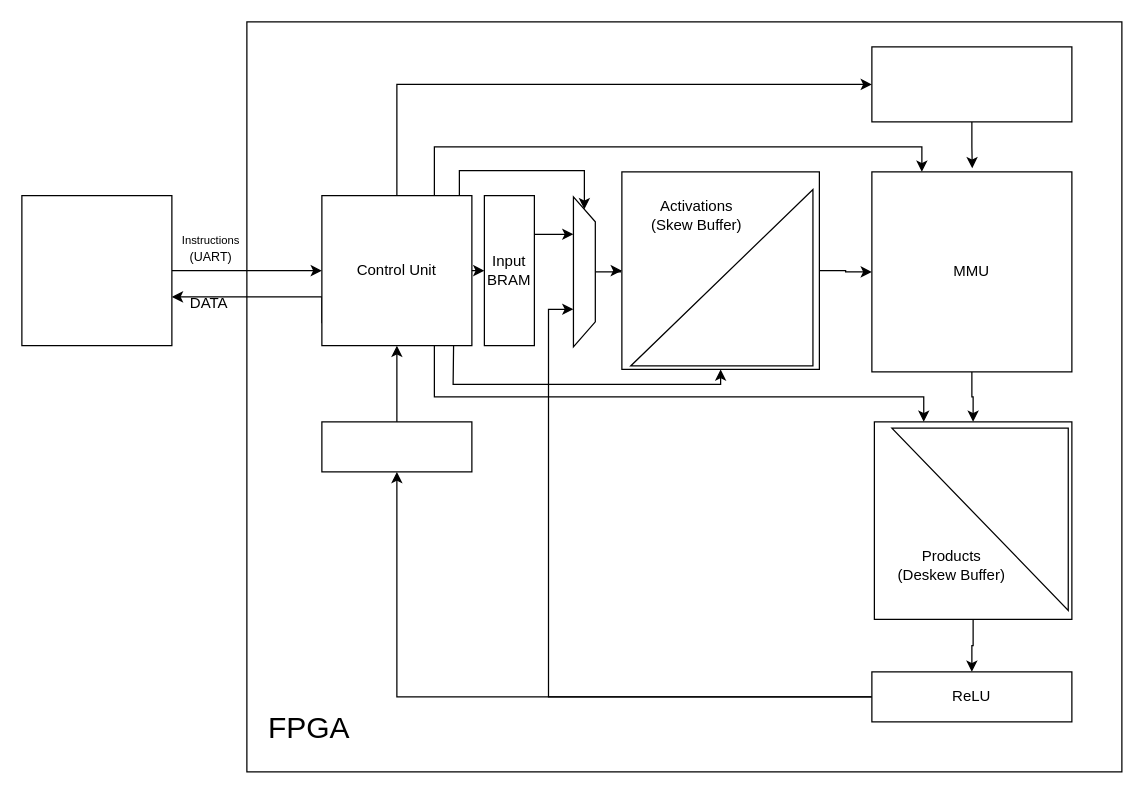
Some shapes in this 1144 by 794 pixel diagram are drawn without their labels. Each missing label, with the centre of its shape:
"host" belongs at point 96,270.
"Output BRAM" belongs at point 396,446.
"Weights (BRAM) (weight stationary, doesn't need skew buffer)" belongs at point 971,84.
